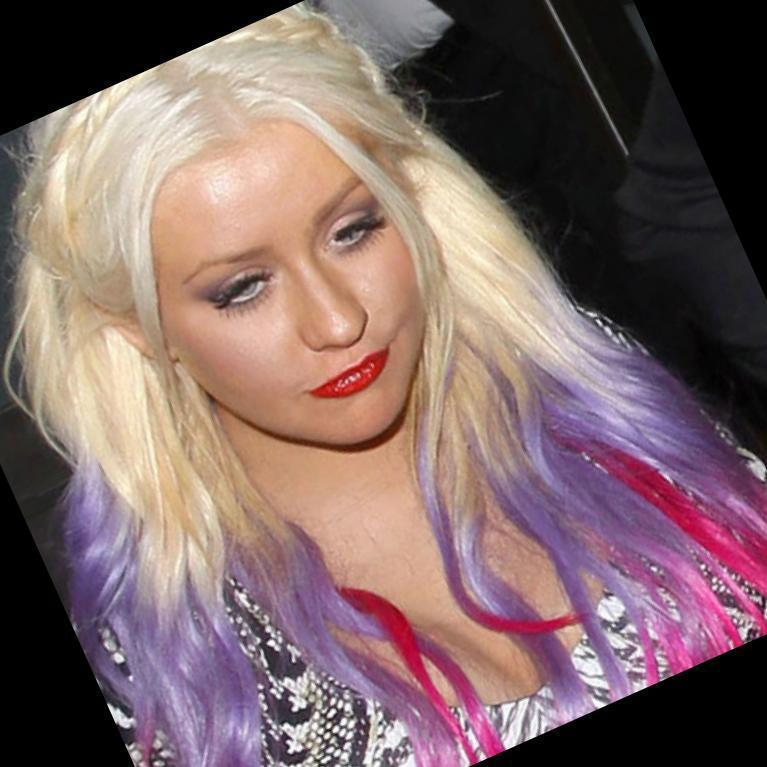Drunk: (154, 164, 415, 433)
